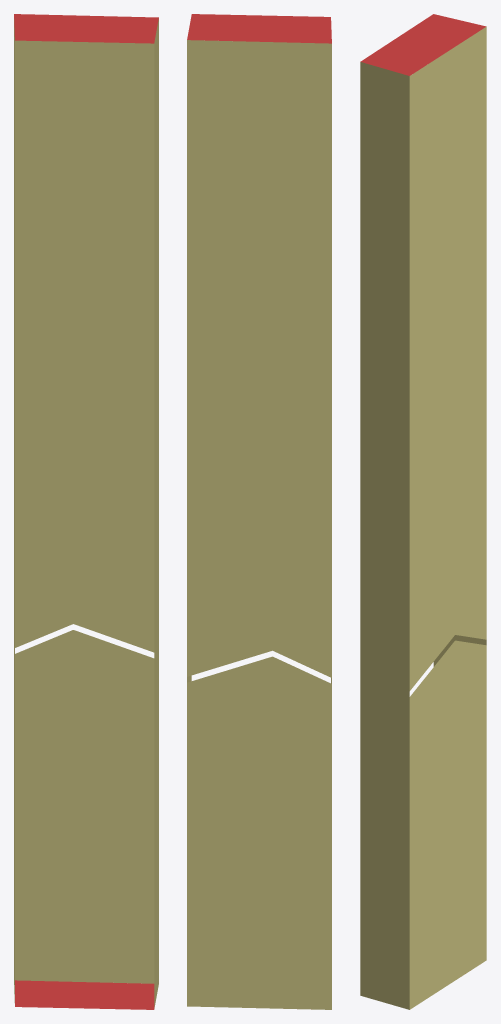
The picture shows the model from 3 angles, left to right: view 1: azimuth 30°, elevation 25°; view 2: azimuth 210°, elevation 25°; view 3: azimuth 270°, elevation 25°; orthographic projection. The views are drawn at different scales.
Visible parts, largest first — view 1: group_4, group_3, group_5; view 2: group_4, group_3; view 3: group_4, group_3.
Boxes of the visible parts, left/top/right/bottom form: group_4: left=14, top=18, right=158, bottom=1008; group_3: left=14, top=14, right=158, bottom=43; group_5: left=15, top=980, right=154, bottom=1009; group_4: left=187, top=40, right=331, bottom=1009; group_3: left=187, top=14, right=331, bottom=43; group_4: left=360, top=26, right=486, bottom=1009; group_3: left=360, top=14, right=486, bottom=75.
Bounding box in the file's own units: 2.38 × 2.05 × 16.68.
